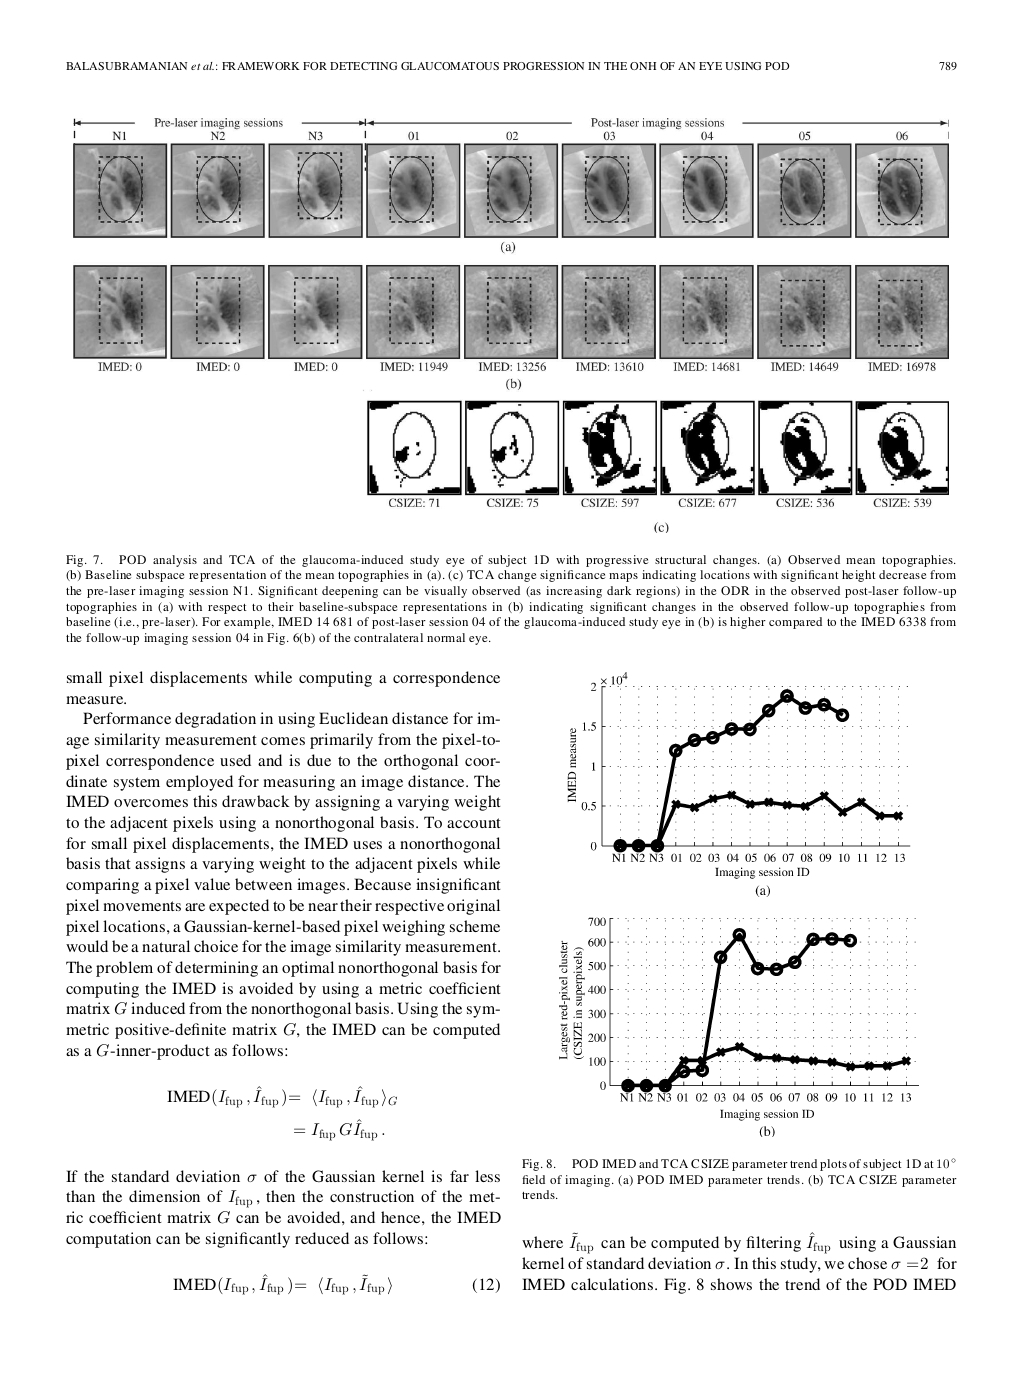figure: (72, 117, 948, 238), (72, 263, 948, 371), (559, 917, 917, 1120), (567, 672, 910, 877), (367, 399, 948, 509)
formula: (173, 1272, 499, 1295), (167, 1085, 396, 1108), (294, 1118, 384, 1141)
